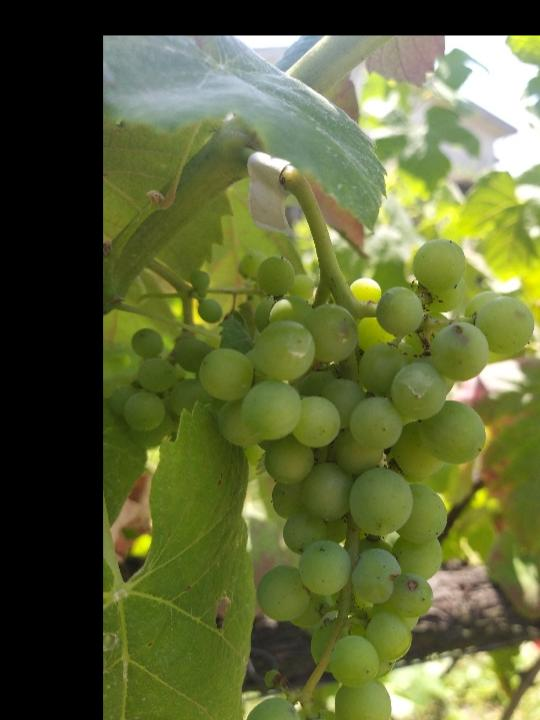grape: (193, 235, 535, 720)
